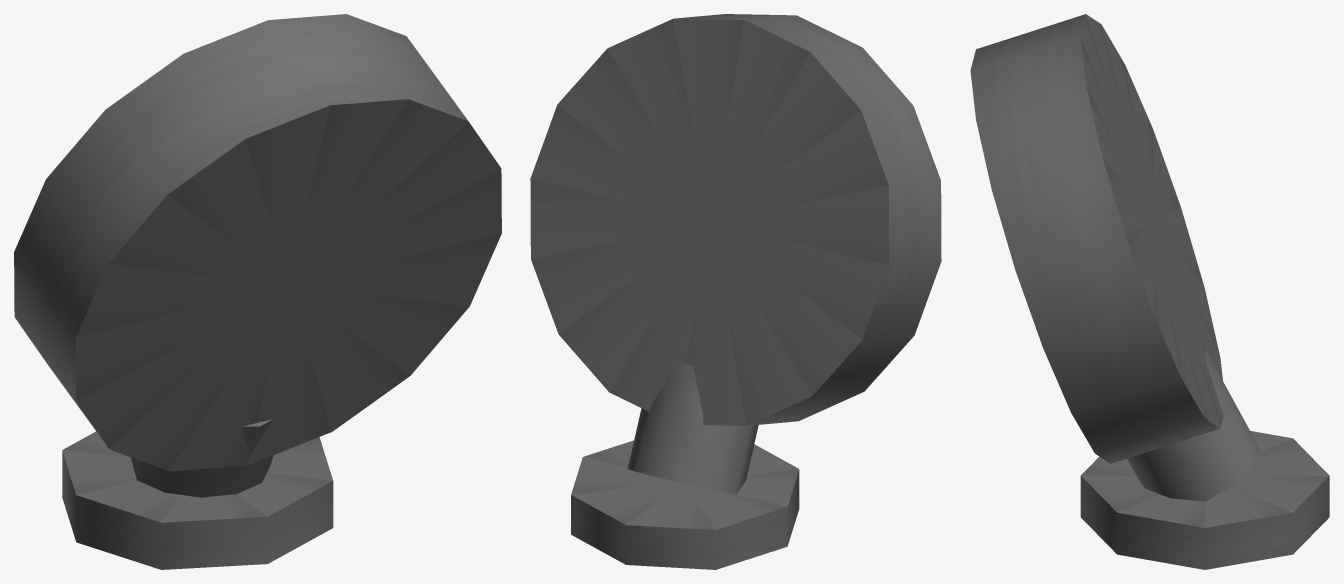
File: mastarmcurve_8x2_c3_down.obj
3 renders of one model, left to right at view 1: azimuth 30°, elevation 25°; view 2: azimuth 150°, elevation 25°; view 3: azimuth 270°, elevation 25°, orthographic. The views are drawn at different scales.
Visible parts, largest first — view 1: mastarm_8x2_c3_down; view 2: mastarm_8x2_c3_down; view 3: mastarm_8x2_c3_down.
Boxes of the visible parts, bbox=[...] form: mastarm_8x2_c3_down: bbox=[14, 14, 501, 569]; mastarm_8x2_c3_down: bbox=[530, 14, 941, 569]; mastarm_8x2_c3_down: bbox=[970, 14, 1329, 569].
Bounding box in the file's own units: 0.7011 × 0.8558 × 0.5774.
